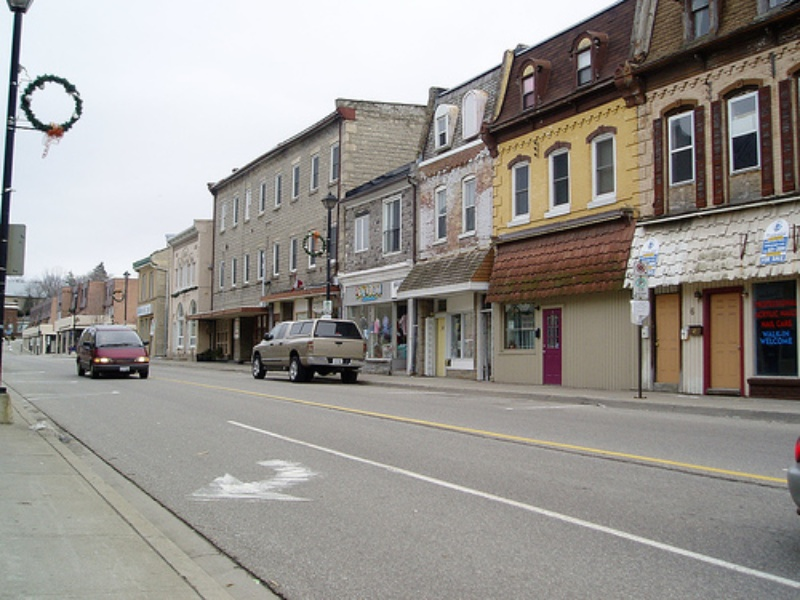car: (249, 318, 368, 384), (76, 326, 150, 382)
